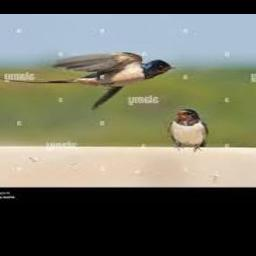Swallow: (0, 53, 173, 110), (169, 109, 208, 150)
